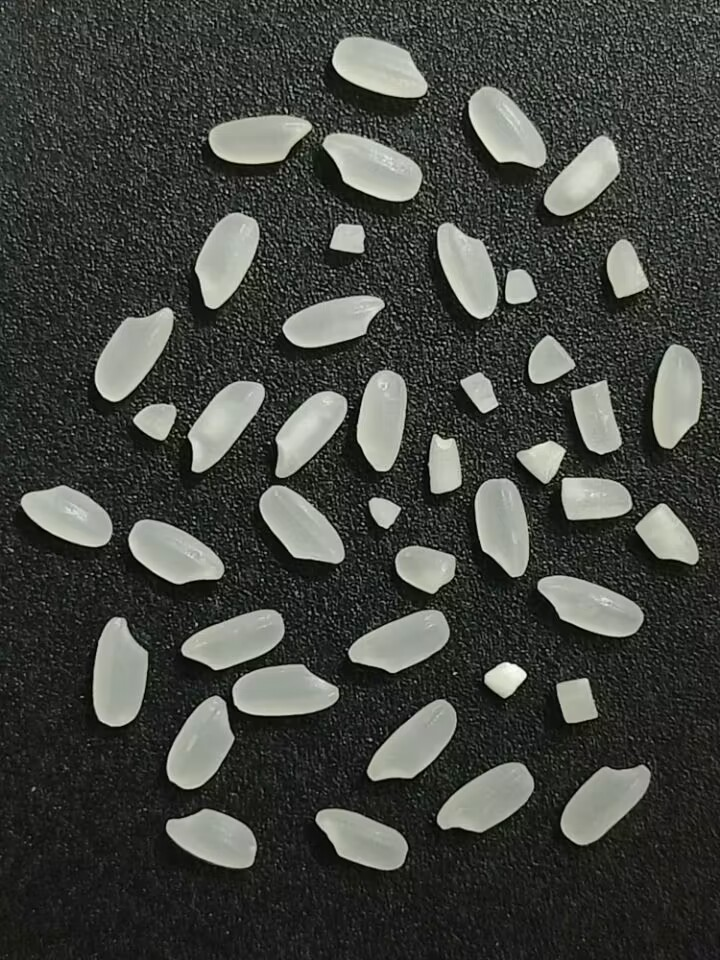broken: (635, 501, 700, 567), (569, 377, 623, 456), (561, 474, 631, 522), (394, 546, 457, 595), (605, 235, 651, 302), (526, 332, 578, 386), (515, 438, 567, 487), (128, 396, 178, 442), (427, 434, 462, 495), (481, 660, 530, 703), (459, 370, 503, 416), (556, 678, 598, 724), (326, 219, 374, 258), (504, 268, 536, 304), (368, 497, 401, 529)
rice: (92, 305, 175, 404), (185, 379, 266, 477), (559, 761, 651, 847), (267, 385, 350, 478), (365, 699, 458, 781), (259, 482, 347, 568), (321, 132, 423, 202), (165, 693, 237, 791), (347, 608, 451, 675), (436, 762, 534, 833), (192, 211, 261, 311), (466, 85, 548, 169), (129, 517, 226, 587), (180, 609, 285, 671), (90, 616, 148, 728), (313, 806, 411, 872), (537, 576, 643, 637), (19, 482, 116, 548), (543, 134, 620, 216), (436, 220, 499, 318), (331, 35, 427, 99), (164, 806, 257, 872), (279, 291, 386, 348), (230, 663, 341, 717), (355, 368, 408, 474), (474, 478, 530, 578), (650, 343, 702, 450), (207, 113, 313, 165)
